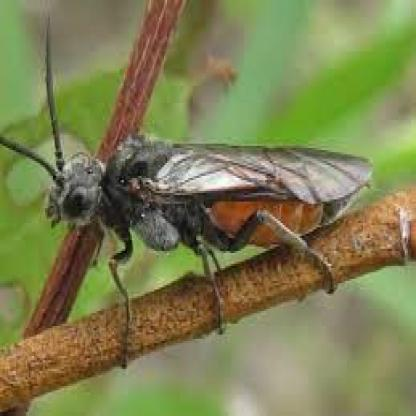sawfly: (3, 17, 377, 337)
